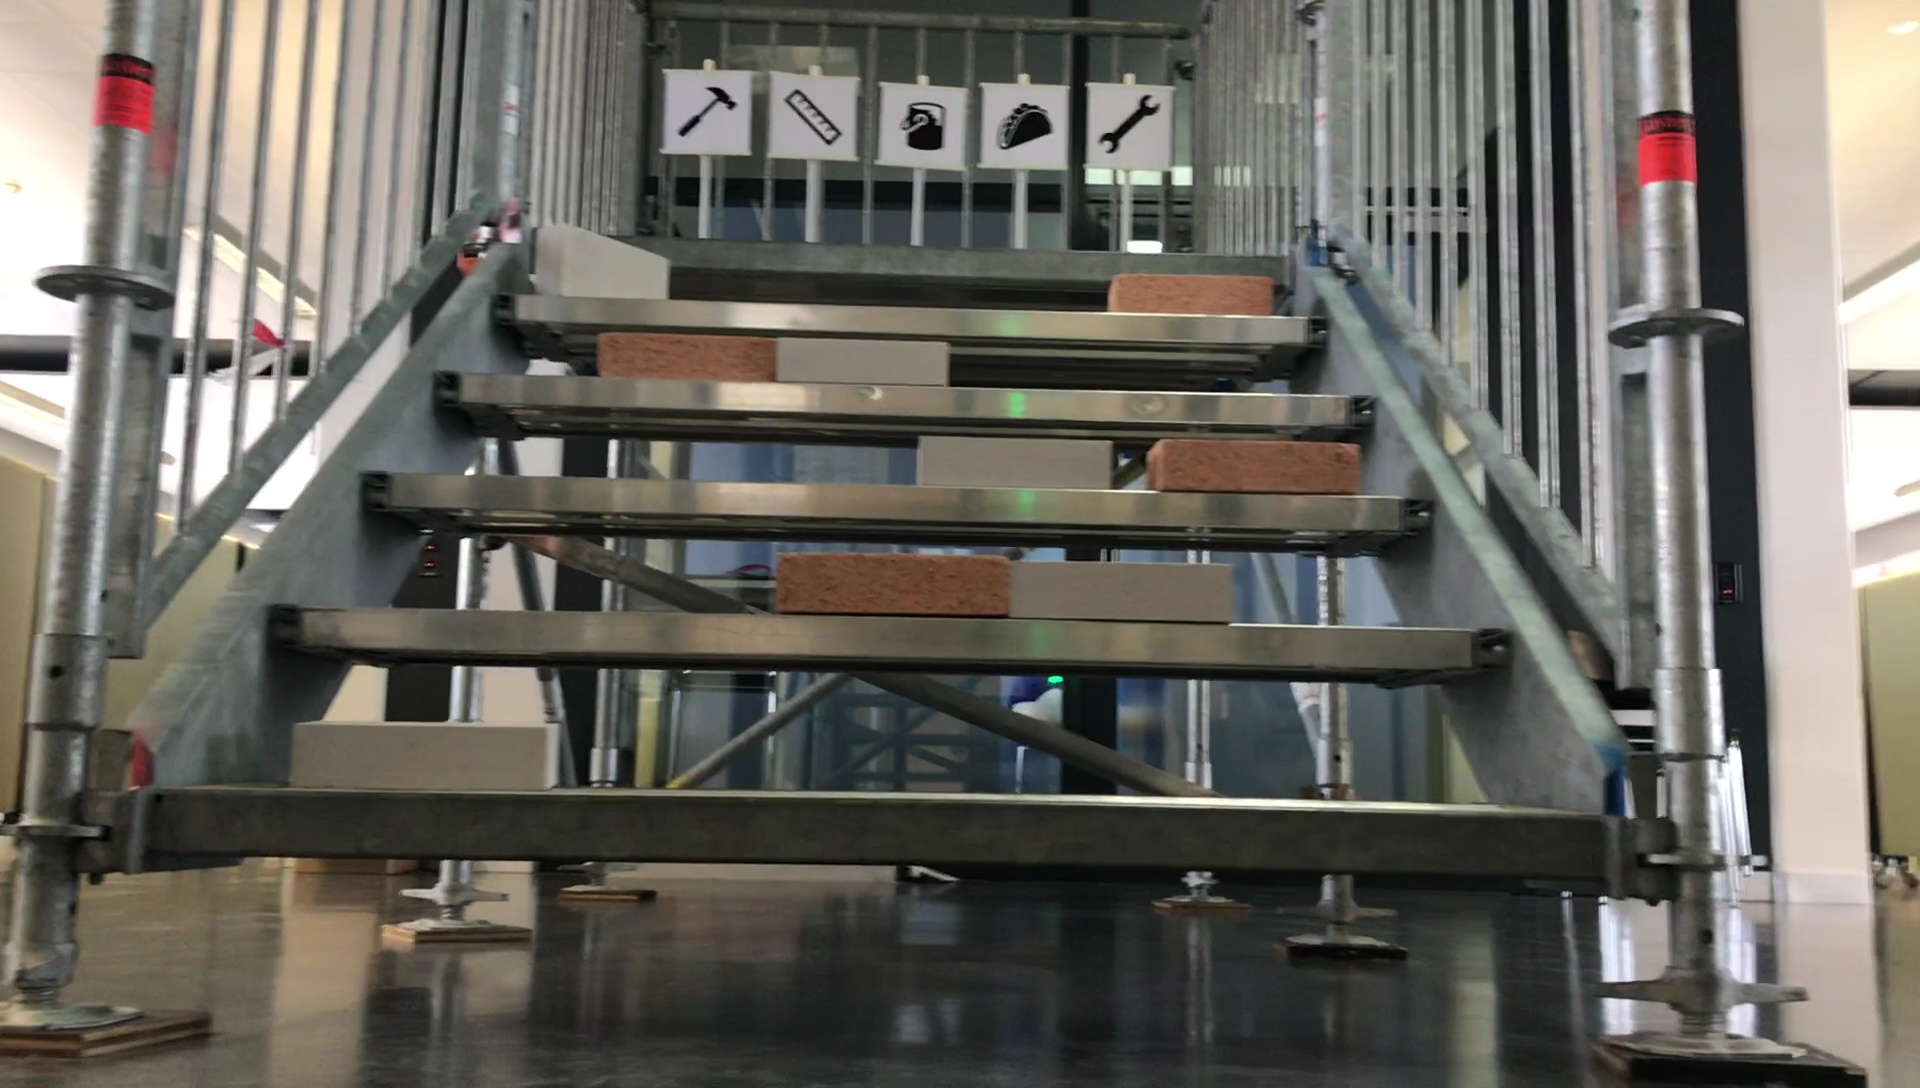brick: (286, 717, 564, 793), (771, 553, 997, 619), (1153, 435, 1381, 499), (1004, 560, 1245, 620), (526, 226, 670, 299), (903, 440, 1112, 491), (777, 338, 956, 386), (599, 335, 785, 378), (1109, 272, 1282, 317)
bucket: (894, 95, 949, 152)
edge: (138, 787, 1618, 877), (363, 472, 1428, 533), (286, 615, 1519, 654), (495, 291, 1325, 347), (393, 390, 1385, 415), (520, 241, 1288, 268)
hammer: (680, 83, 740, 136)
ruler: (785, 88, 843, 145)
stairs: (15, 0, 1749, 1079)
steps: (99, 249, 1658, 876)
taco: (994, 106, 1054, 156)
wrench: (1098, 92, 1159, 150)
